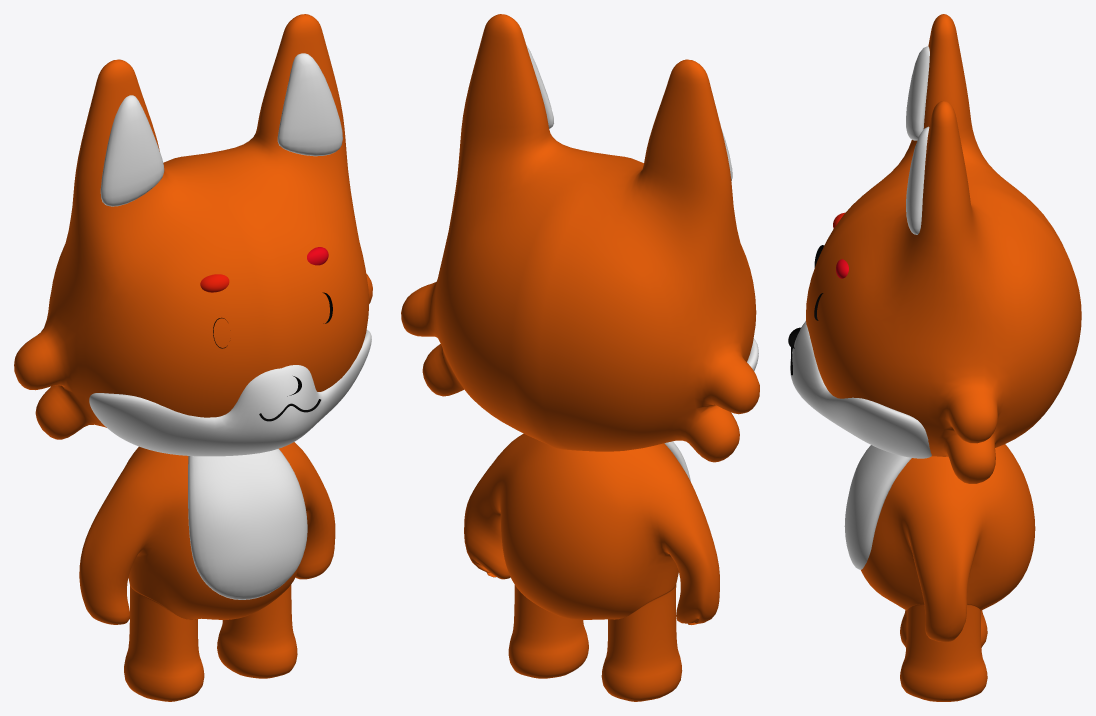
Rendered from anime5.glb.
The picture shows the model from 3 angles, left to right: view 1: azimuth 30°, elevation 25°; view 2: azimuth 150°, elevation 25°; view 3: azimuth 270°, elevation 25°; orthographic projection. The views are drawn at different scales.
Parts seen in each view (by area): view 1: Cube.004; view 2: Cube.004; view 3: Cube.004.
Part boxes in pixels (left/top/right/bottom): Cube.004: left=14, top=14, right=372, bottom=701; Cube.004: left=401, top=14, right=759, bottom=701; Cube.004: left=788, top=14, right=1081, bottom=701.
Bounding box in the file's own units: 1.7 × 2.95 × 1.29.
